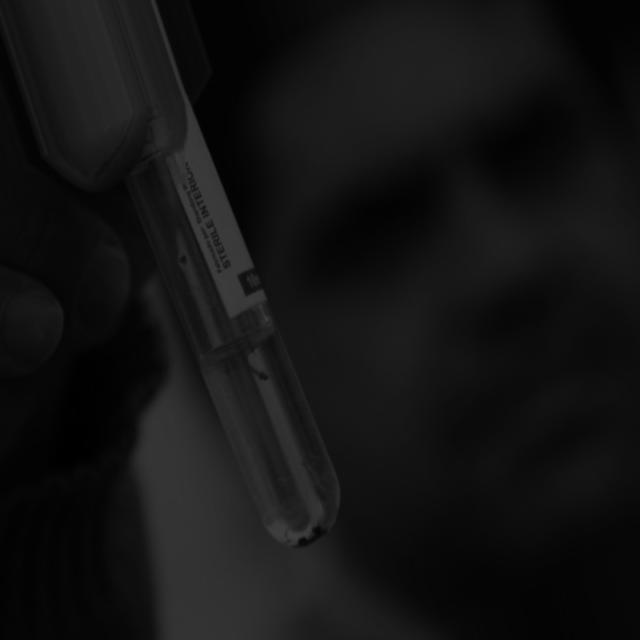larvas: (303, 463, 324, 501), (243, 349, 266, 380)
